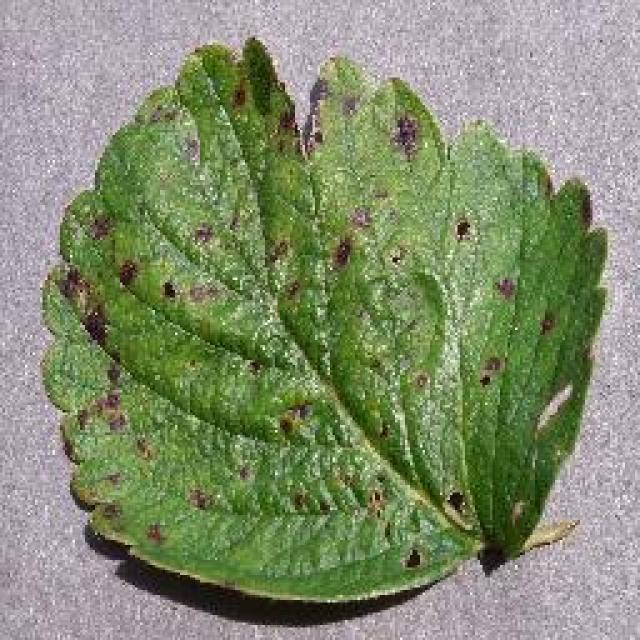Strawberry___Leaf_scorch: (22, 17, 625, 640)
